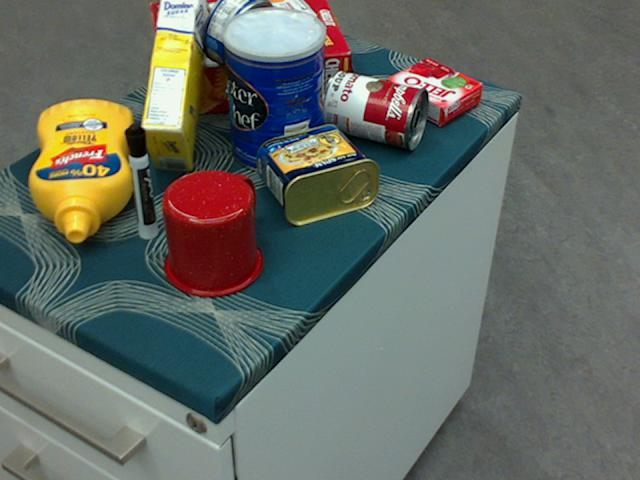cracker_box: (151, 0, 350, 117)
gelatin_box: (384, 59, 482, 124)
large_marker: (122, 124, 158, 238)
master_chef_can: (221, 6, 325, 174)
mug: (161, 168, 263, 296)
mustard_bottle: (28, 100, 133, 242)
potted_meat_can: (255, 121, 379, 226)
sugar_box: (141, 0, 209, 171)
tomato_soup_can: (321, 69, 429, 149)
tuna_fish_can: (201, 0, 276, 70)
